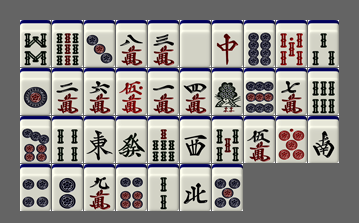0m: (116, 68, 147, 115)
0p: (276, 116, 307, 163)
0s: (276, 20, 307, 67)
1m: (148, 68, 179, 115)
1p: (20, 68, 51, 115)
1s: (212, 68, 243, 115)
1z: (84, 116, 115, 163)
2m: (52, 68, 83, 115)
2p: (52, 164, 83, 211)
2s: (148, 164, 179, 211)
2z: (308, 116, 339, 163)
3m: (148, 20, 179, 67)
3p: (84, 20, 115, 67)
3s: (308, 20, 339, 67)
3z: (180, 116, 211, 163)
4m: (180, 68, 211, 115)
4p: (20, 164, 51, 211)
4s: (52, 116, 83, 163)
4z: (180, 164, 211, 211)
5m: (244, 116, 275, 163)
5p: (212, 164, 243, 211)
5s: (212, 116, 243, 163)
5z: (180, 20, 211, 67)
6m: (84, 68, 115, 115)
6p: (116, 164, 147, 211)
6s: (308, 68, 339, 115)
6z: (116, 116, 147, 163)
7m: (276, 68, 307, 115)
7p: (20, 116, 51, 163)
7s: (148, 116, 179, 163)
7z: (212, 20, 243, 67)
8m: (116, 20, 147, 67)
8p: (244, 20, 275, 67)
8s: (20, 20, 51, 67)
9m: (84, 164, 115, 211)
9p: (244, 68, 275, 115)
9s: (52, 20, 83, 67)
